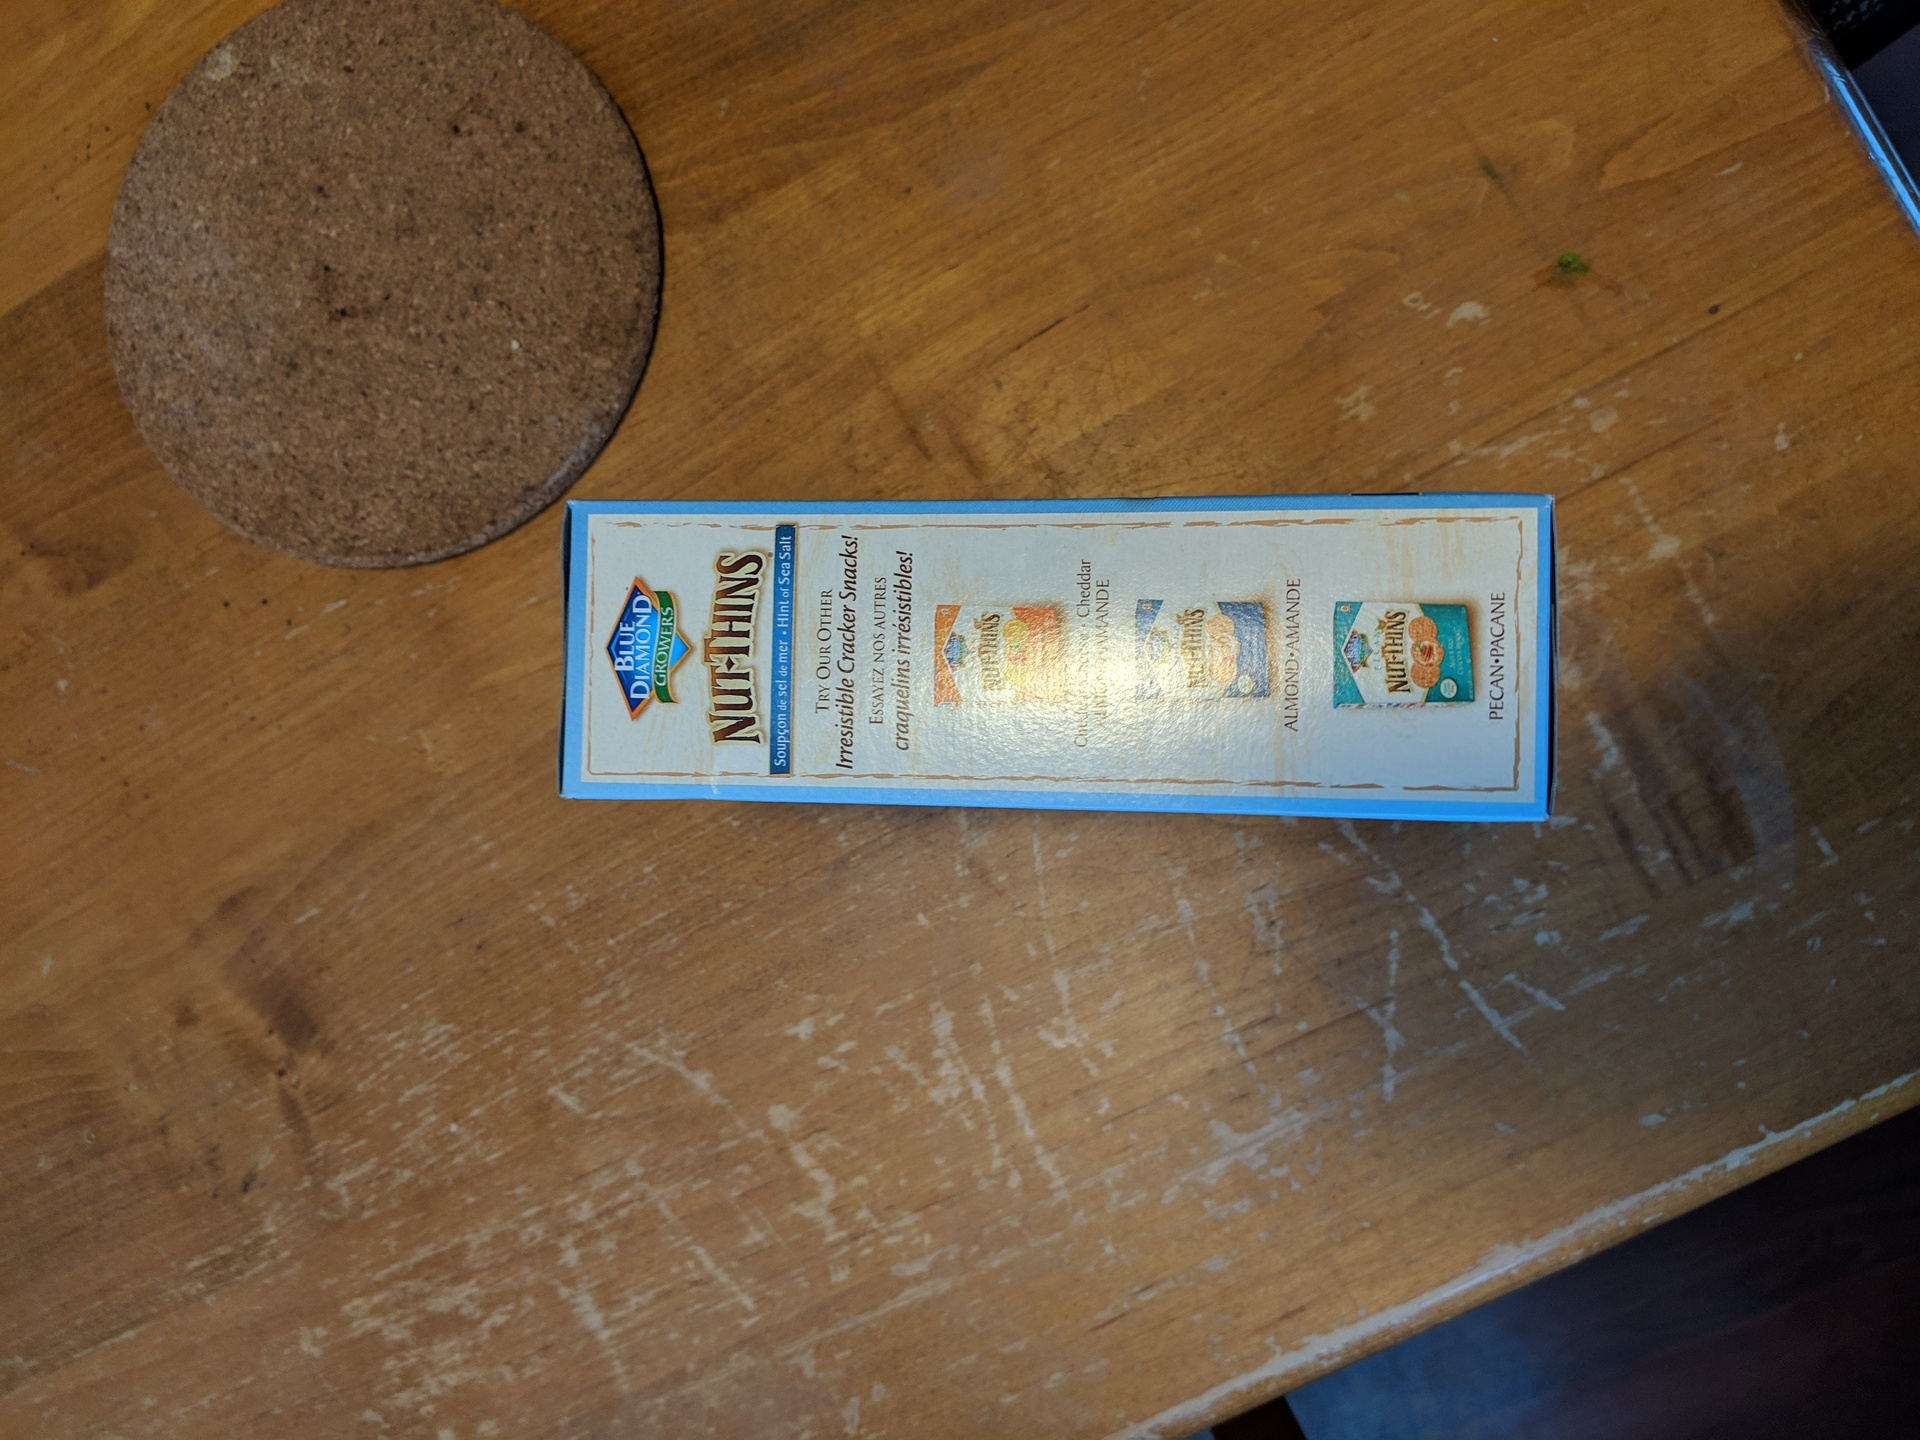blue_diamond_nut_thins_almond_seasalt: (562, 498, 1556, 829)
